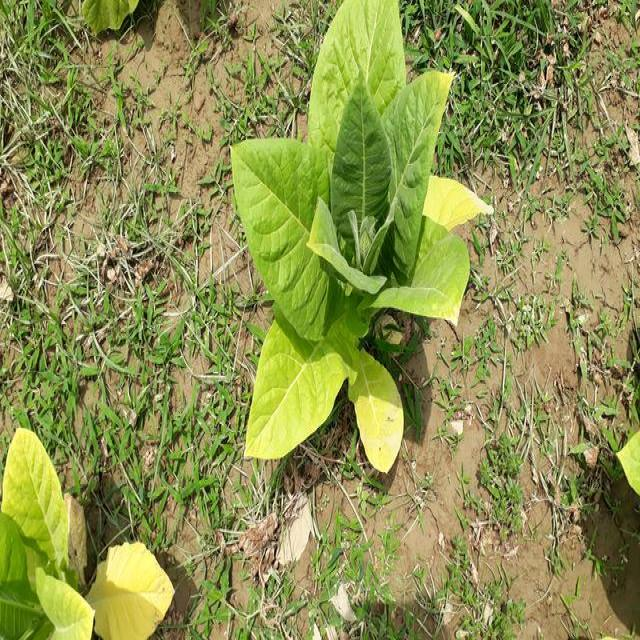crop: (222, 0, 498, 481)
